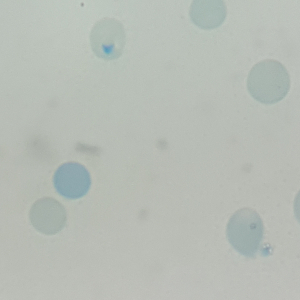erythrocyte: (224, 206, 265, 259), (246, 58, 292, 105), (88, 16, 127, 62), (52, 160, 93, 201), (27, 196, 68, 237)
